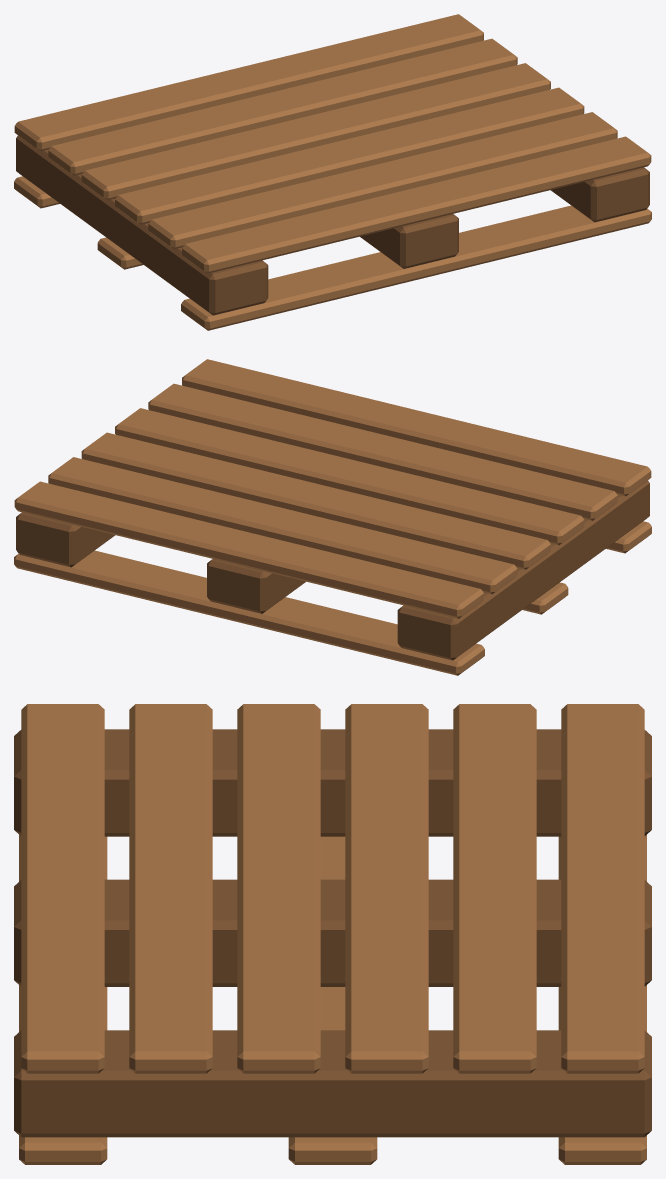
Rendered from Prop_Pallet.fbx.
3 renders of one model, top to bottom at view 1: azimuth 30°, elevation 25°; view 2: azimuth 150°, elevation 25°; view 3: azimuth 270°, elevation 25°, orthographic. The views are drawn at different scales.
Parts seen in each view (by area): view 1: Wood, WoodDark; view 2: Wood, WoodDark; view 3: Wood, WoodDark.
Part boxes in pixels (left/top/right/bottom): Wood: left=14, top=14, right=651, bottom=330; WoodDark: left=16, top=135, right=649, bottom=315; Wood: left=14, top=359, right=651, bottom=675; WoodDark: left=16, top=480, right=649, bottom=660; Wood: left=19, top=704, right=646, bottom=1164; WoodDark: left=14, top=729, right=651, bottom=1137.
Size of the model in its own units: 3.4 by 0.51 by 2.6.
